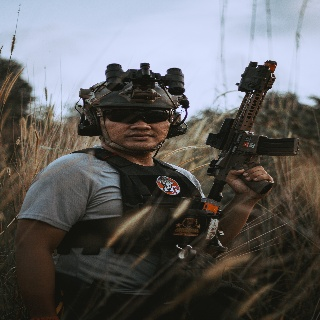rifle: (205, 59, 301, 210)
